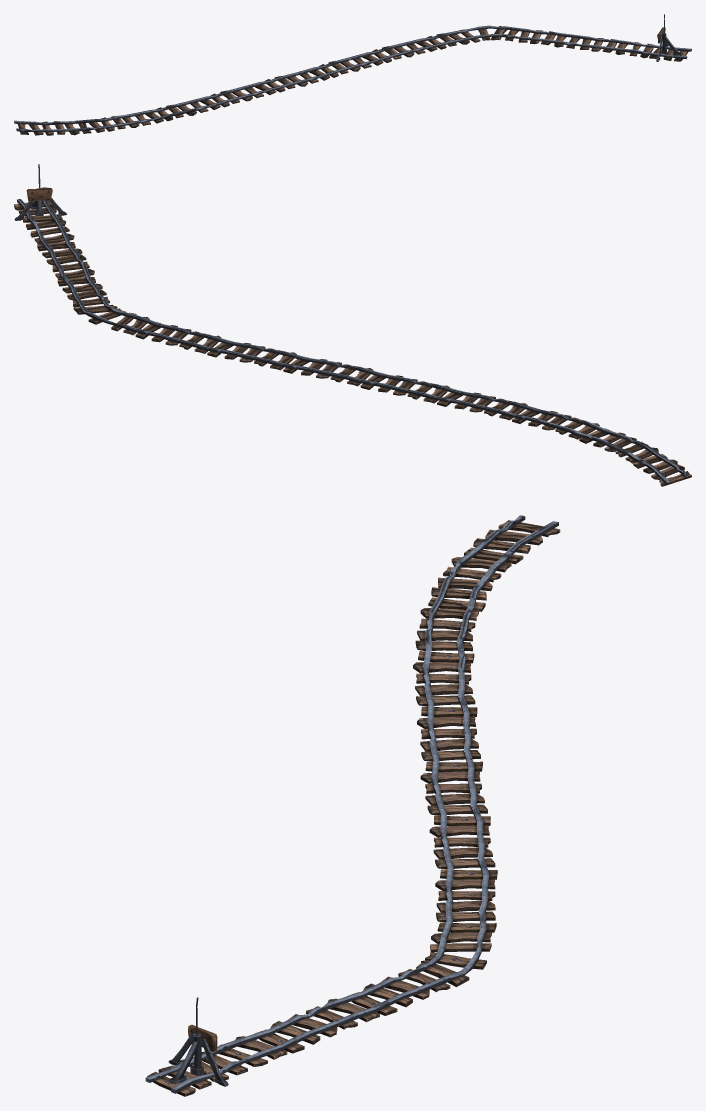
Rendered from menu_object_mine_rails.fbx.
3 views of the same model, one above another, from view 1: azimuth 30°, elevation 25°; view 2: azimuth 150°, elevation 25°; view 3: azimuth 270°, elevation 25° (orthographic). The views are drawn at different scales.
Visible parts, largest first — view 1: menu_object_mine_rails-0; view 2: menu_object_mine_rails-0; view 3: menu_object_mine_rails-0.
Part boxes in pixels (x1,y1,x2,y2): menu_object_mine_rails-0: (14, 14, 691, 135); menu_object_mine_rails-0: (14, 164, 691, 486); menu_object_mine_rails-0: (145, 515, 560, 1096).
Size of the model in its own units: 42.84 by 2.76 by 13.06.
